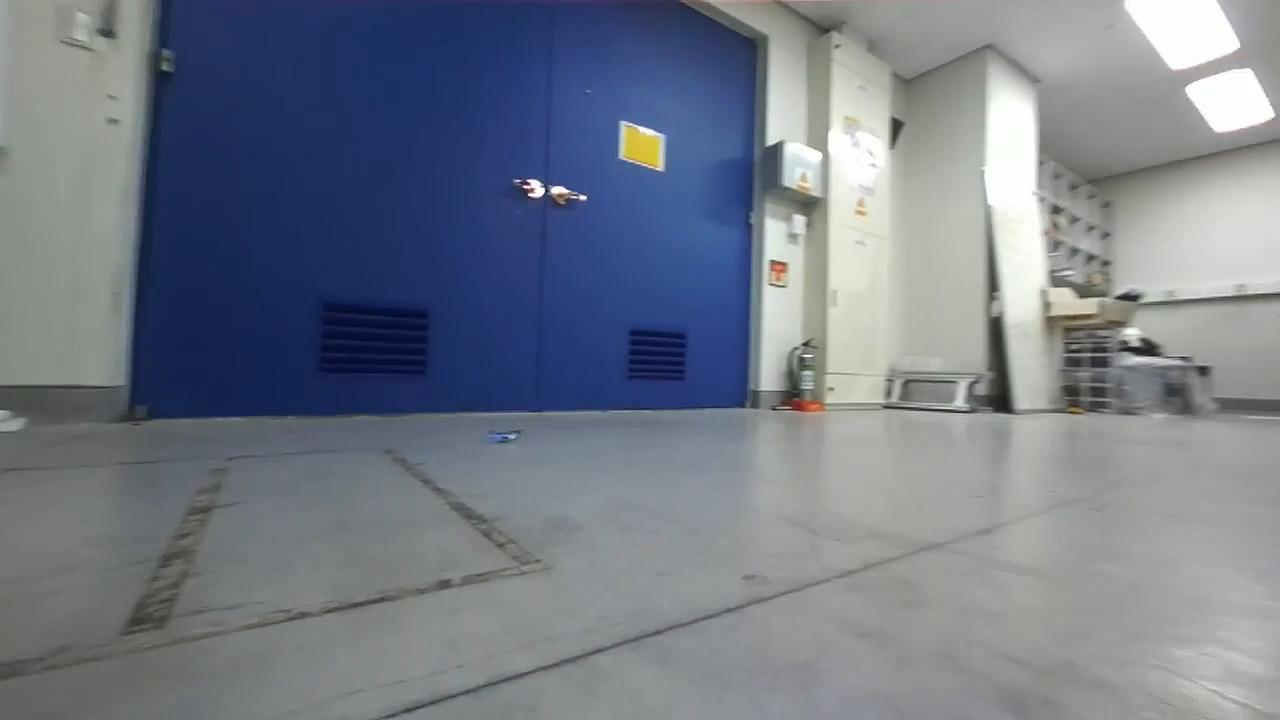crazyflie: (484, 422, 530, 450)
